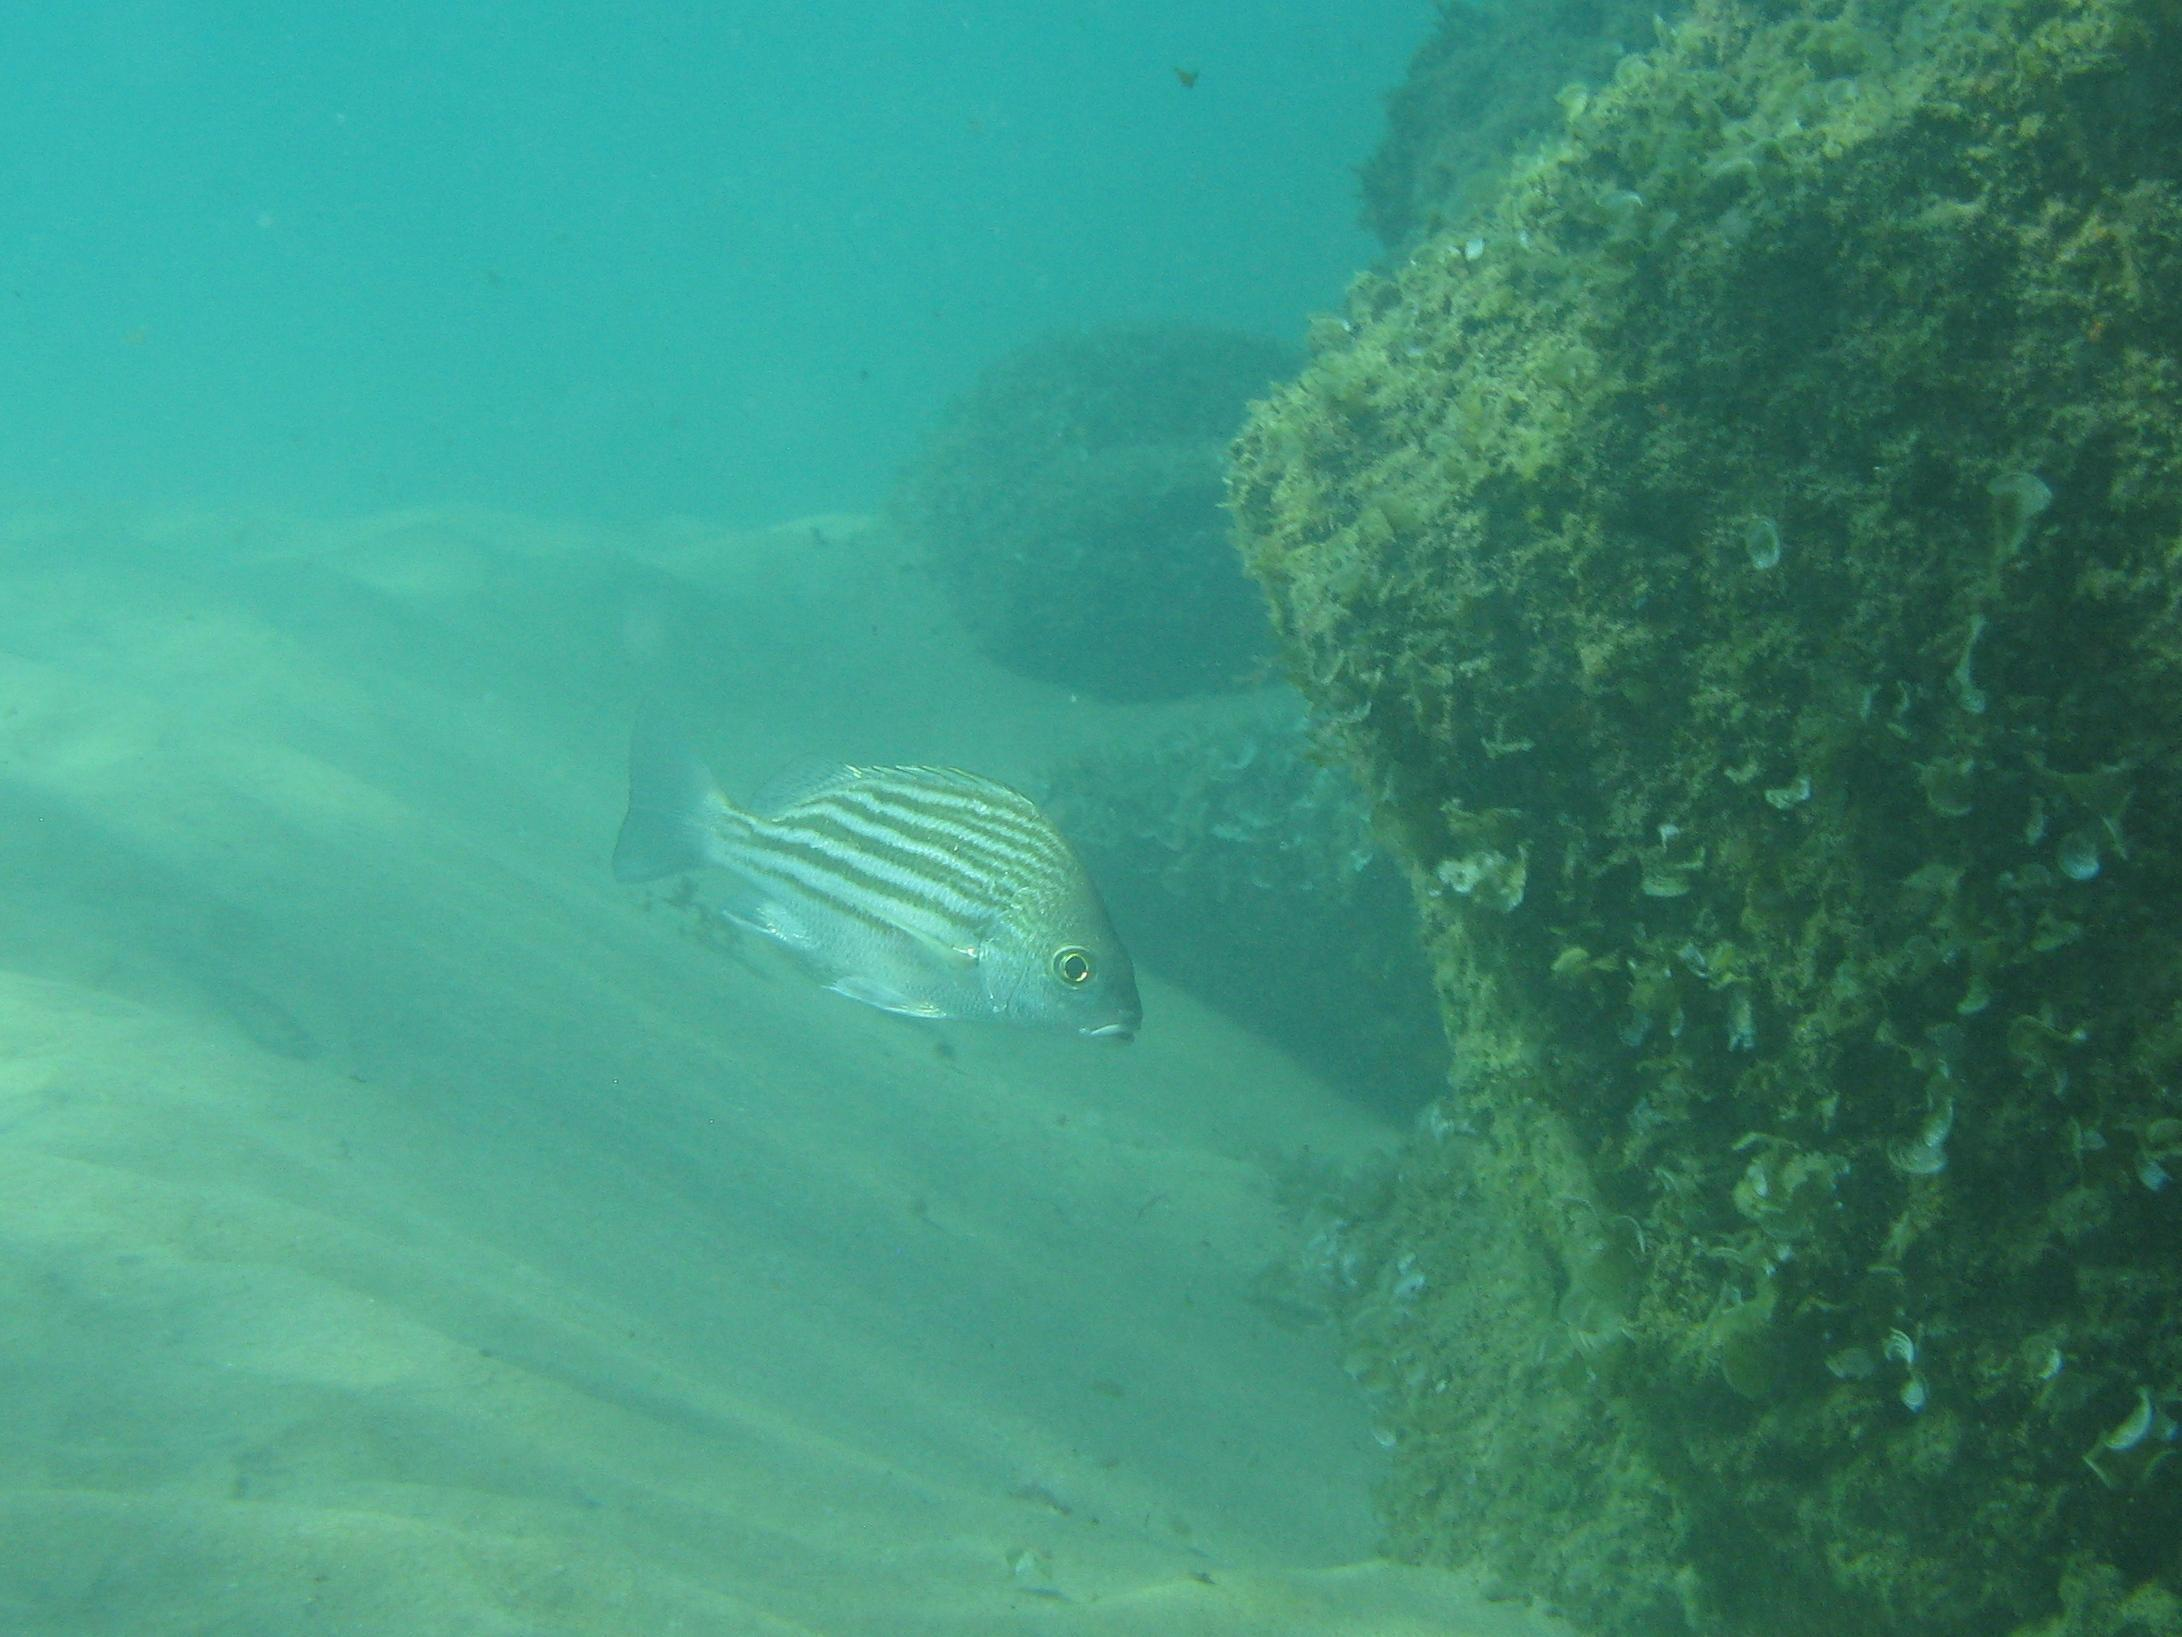Fish: (624, 714, 1174, 1097)
